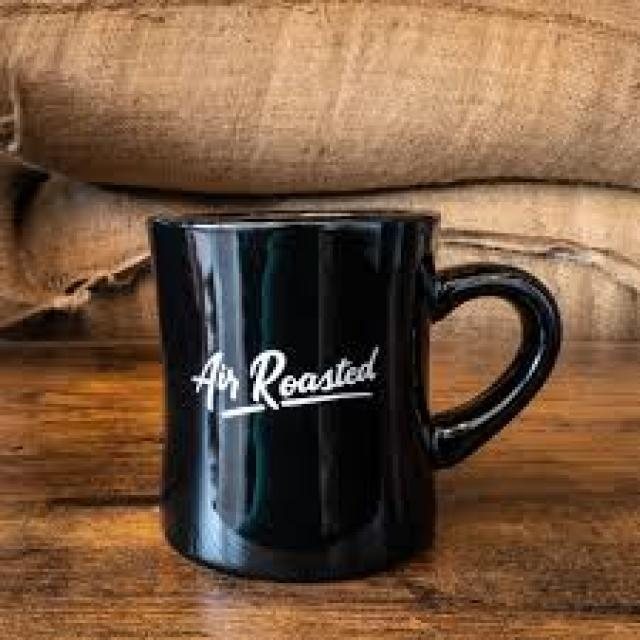taza: (145, 207, 563, 583)
